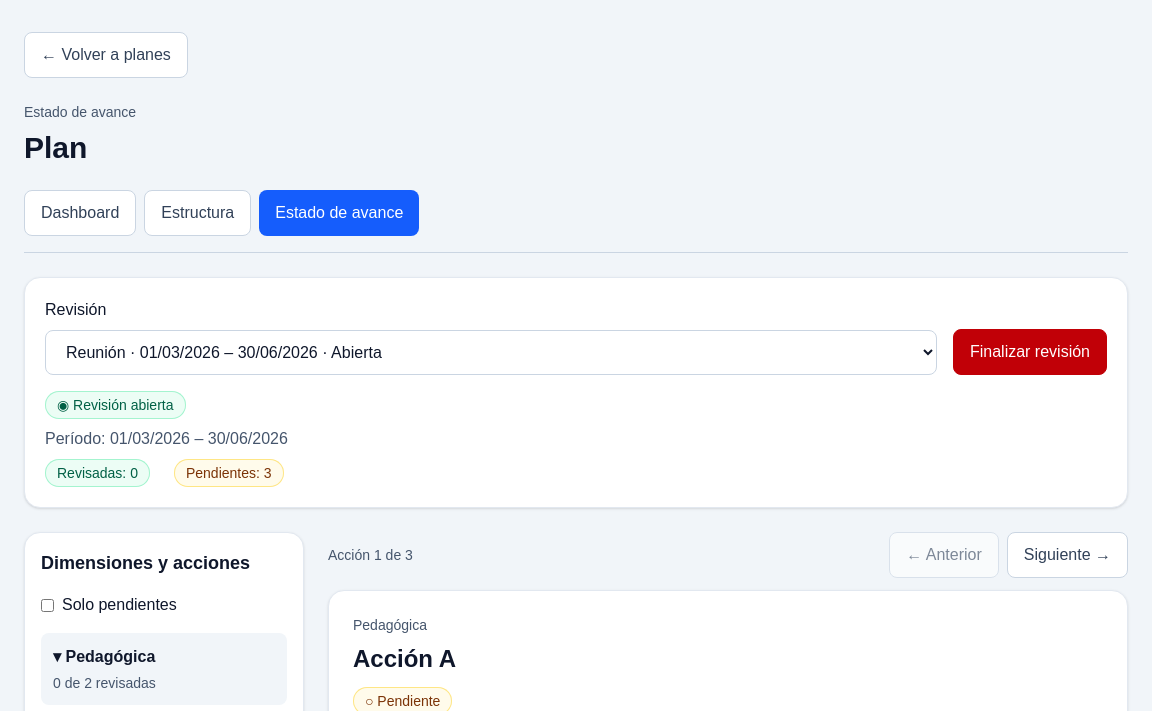
it: navega dimensiones y acciones sin mostrar formularios simultáneos
Step 1. Click the button "Siguiente →" → (1067, 555), box [1007, 532, 1128, 578]
(page scrolled)
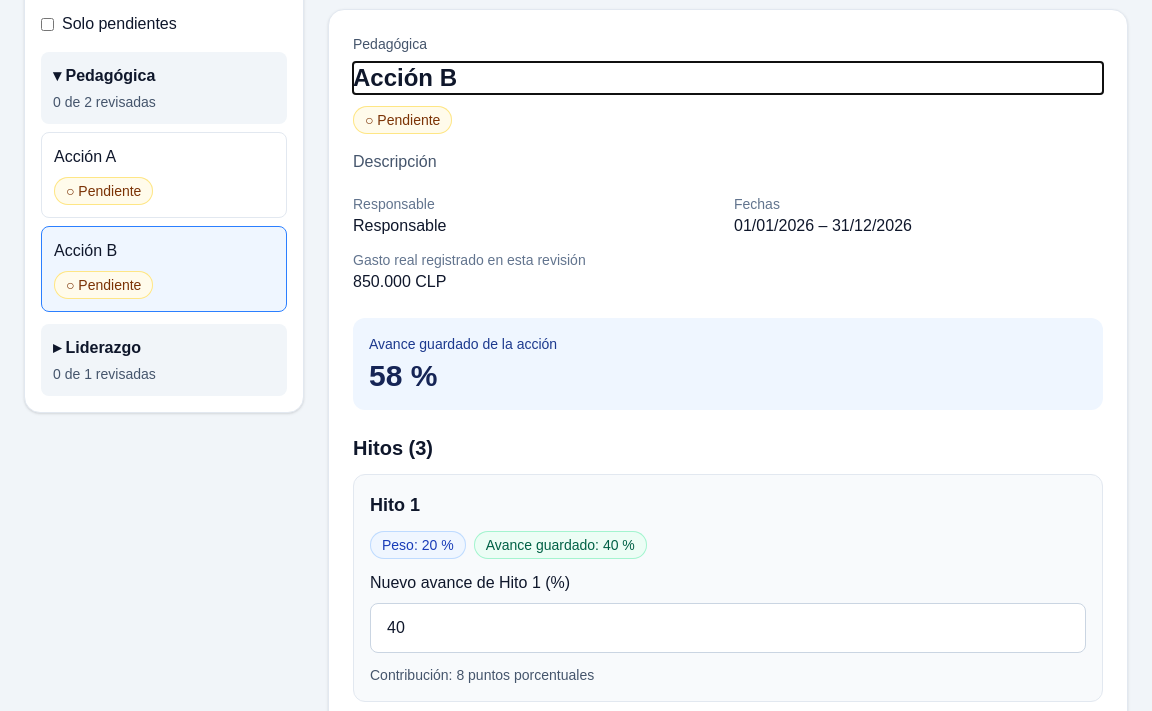
Result: the heading "Acción B" is shown at [353, 64, 457, 91]
Step 2. Click the button "▸ Liderazgo 0 de 1 revisadas" → (164, 360), box [41, 324, 287, 396]
(page scrolled)
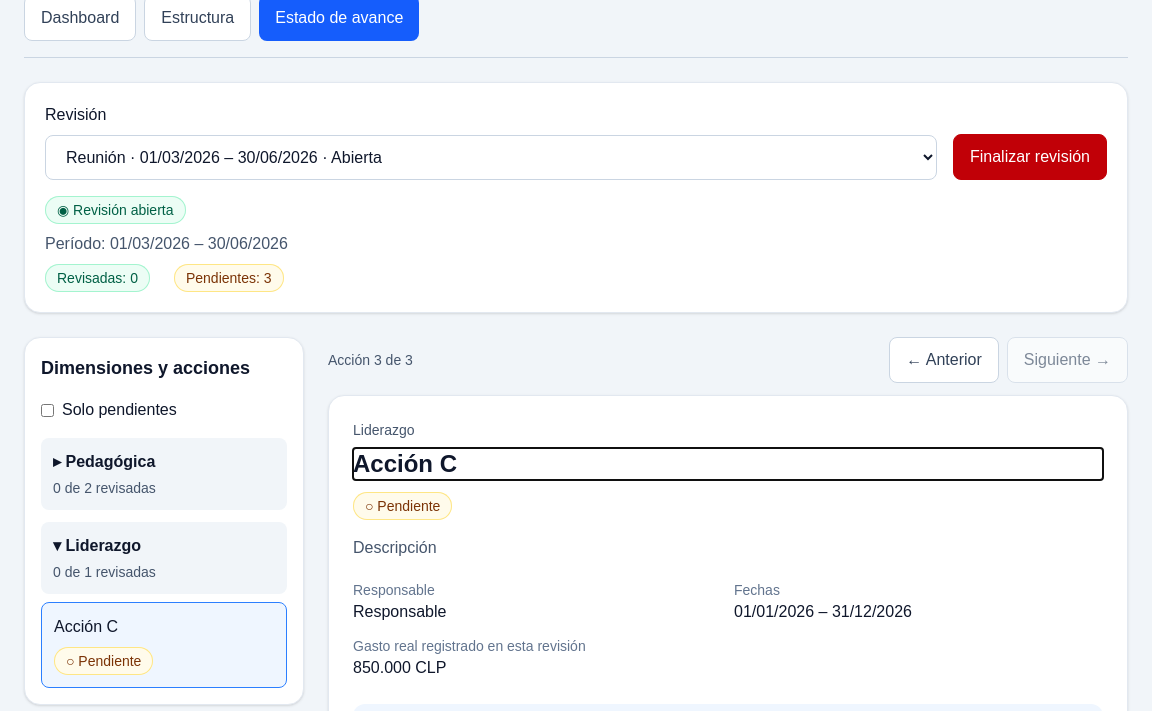
Result: the heading "Acción C" is shown at [353, 450, 457, 477]
Step 3. Click the button "← Anterior" → (944, 360), box [889, 337, 999, 383]
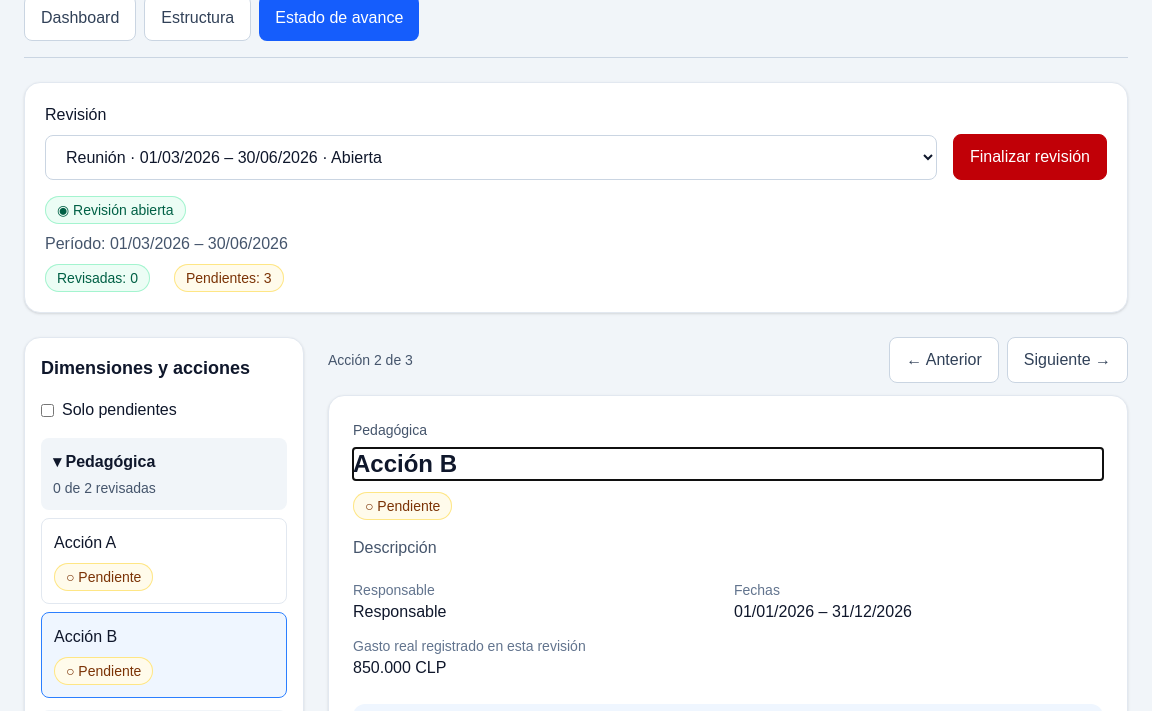
Result: the heading "Acción B" is shown at [353, 450, 457, 477]
